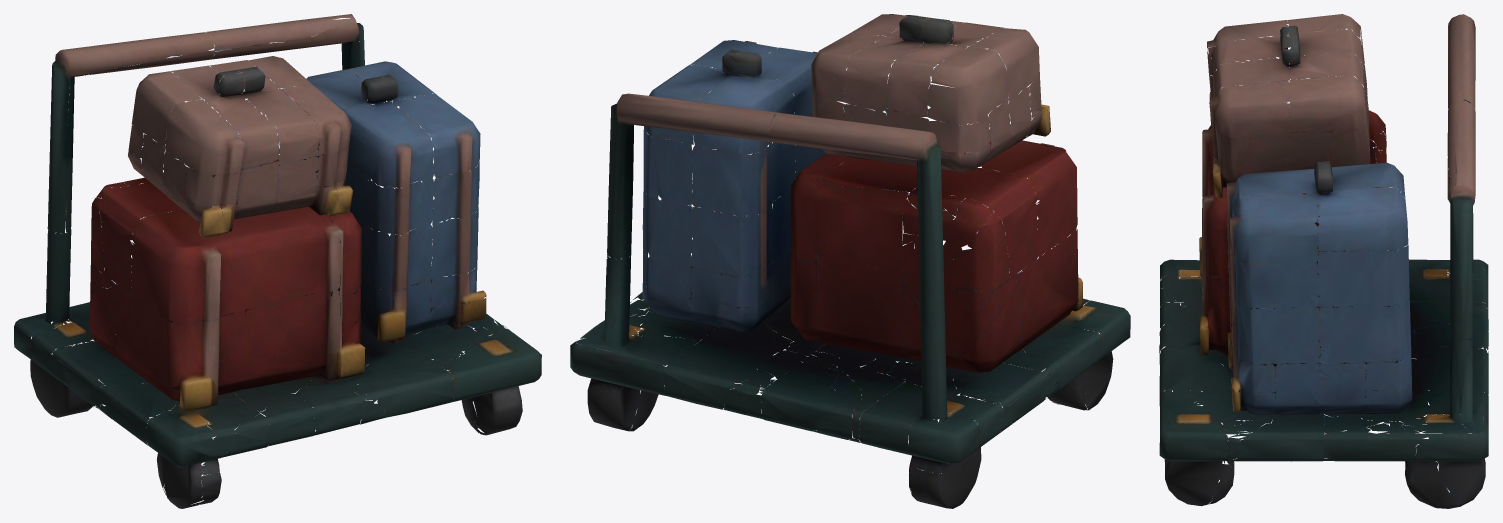
File: luggage-cart-hi3d-512-B7FlIkdz.glb
3 renders of one model, left to right at view 1: azimuth 30°, elevation 25°; view 2: azimuth 150°, elevation 25°; view 3: azimuth 270°, elevation 25°, orthographic. The views are drawn at different scales.
Visible parts, largest first — view 1: world; view 2: world; view 3: world.
Part boxes in pixels (x1,y1,x2,y2): world: (14,14,541,508); world: (570,14,1130,508); world: (1159,14,1488,508).
Bounding box in the file's own units: 1.6 × 1.56 × 1.26.
Materials: 1 (1 with a texture image).
